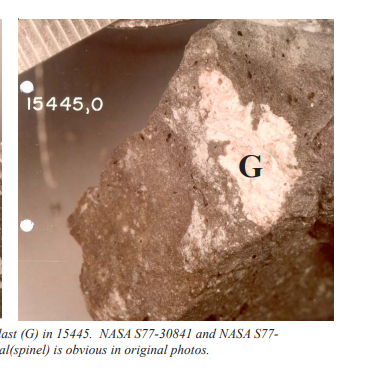Breccia: (81, 156, 259, 307), (185, 46, 318, 160)
